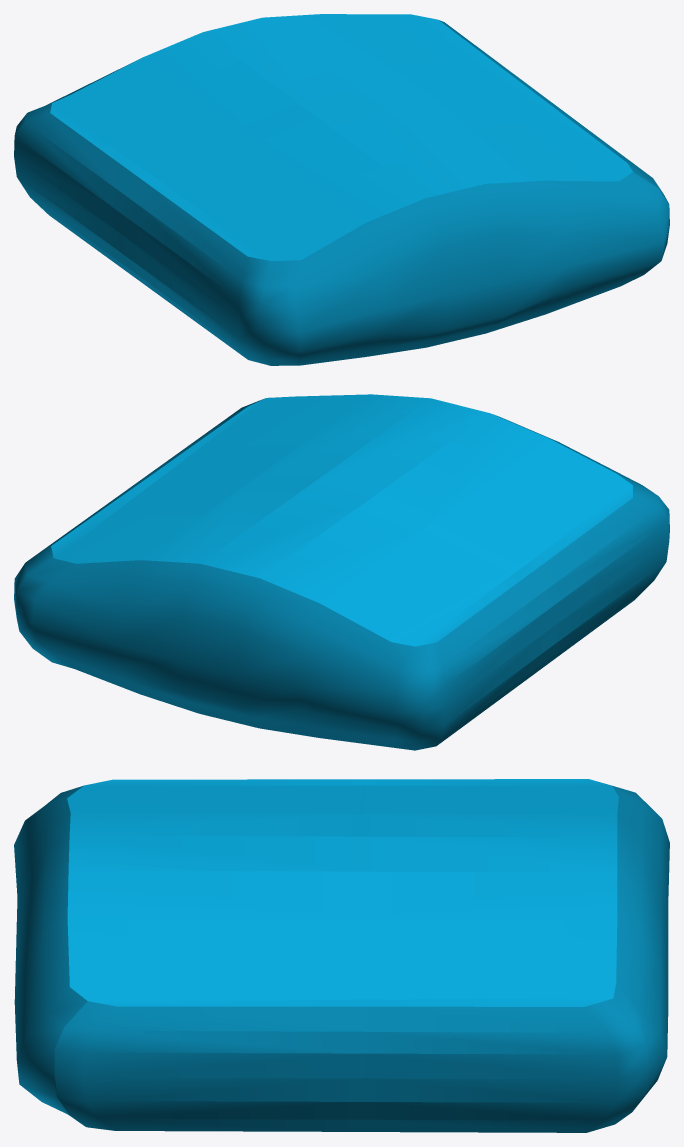
Rendered from PillowAsset.fbx.
3 renders of one model, top to bottom at view 1: azimuth 30°, elevation 25°; view 2: azimuth 150°, elevation 25°; view 3: azimuth 270°, elevation 25°, orthographic. The views are drawn at different scales.
Parts seen in each view (by area): view 1: pCube234; view 2: pCube234; view 3: pCube234.
Boxes of the visible parts, <box> form: pCube234: <box>14,14,669,365</box>; pCube234: <box>14,394,669,750</box>; pCube234: <box>14,779,669,1132</box>.
Bounding box in the file's own units: 8.37 × 2.76 × 9.08.
